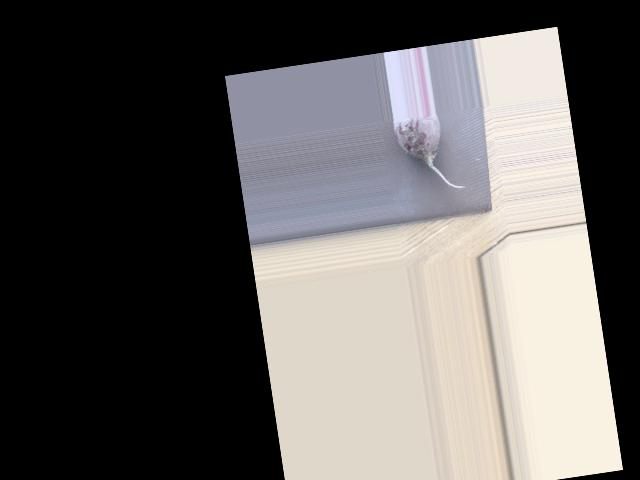beet: (392, 111, 464, 197)
